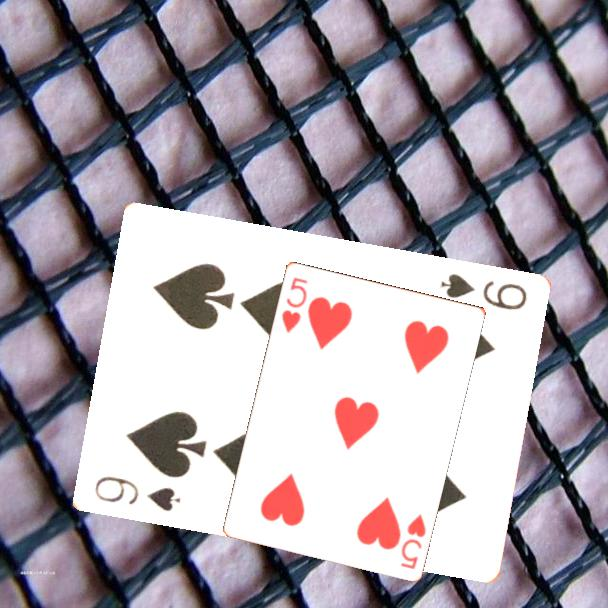h05: (278, 273, 310, 335), (397, 510, 429, 572)
s09: (436, 270, 530, 314), (90, 473, 183, 515)
